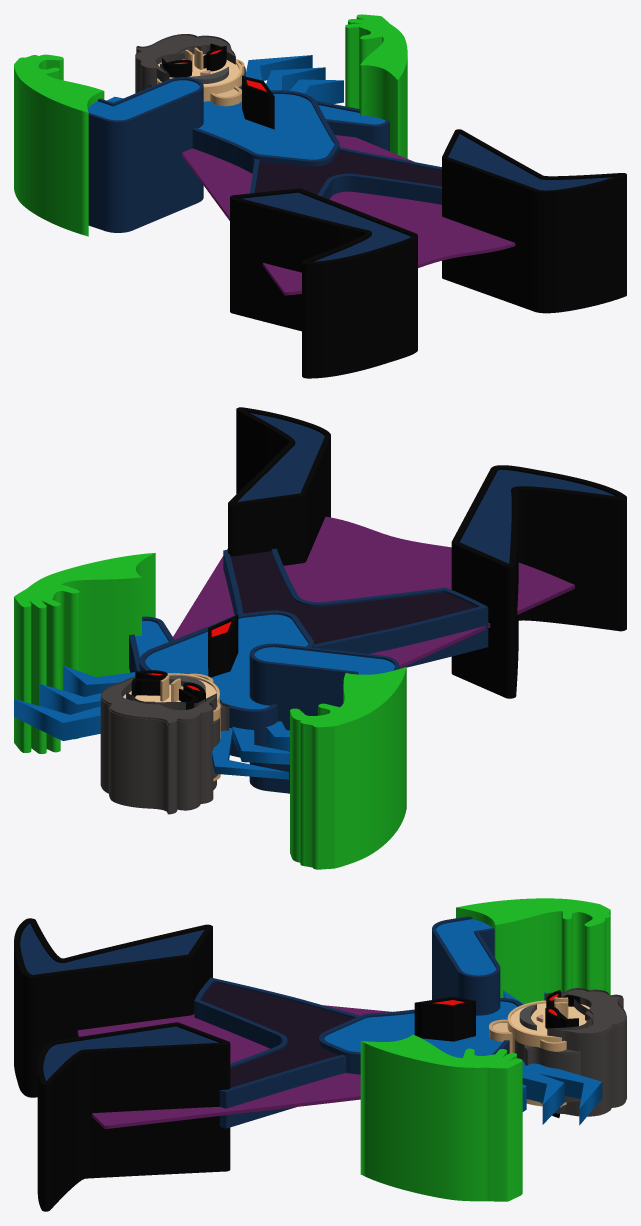
Rendered from emoji_u1f9b9_1f3fb.glb.
The picture shows the model from 3 angles, top to bottom: view 1: azimuth 30°, elevation 25°; view 2: azimuth 150°, elevation 25°; view 3: azimuth 270°, elevation 25°; orthographic projection. The views are drawn at different scales.
Parts seen in each view (by area): view 1: emoji_u1f9b9_1f3fb; view 2: emoji_u1f9b9_1f3fb; view 3: emoji_u1f9b9_1f3fb.
Part boxes in pixels (bbox=[...]): emoji_u1f9b9_1f3fb: bbox=[14, 14, 626, 378]; emoji_u1f9b9_1f3fb: bbox=[14, 407, 626, 869]; emoji_u1f9b9_1f3fb: bbox=[14, 898, 626, 1211].
Size of the model in its own units: 0.0238 by 0.008 by 0.0333.
